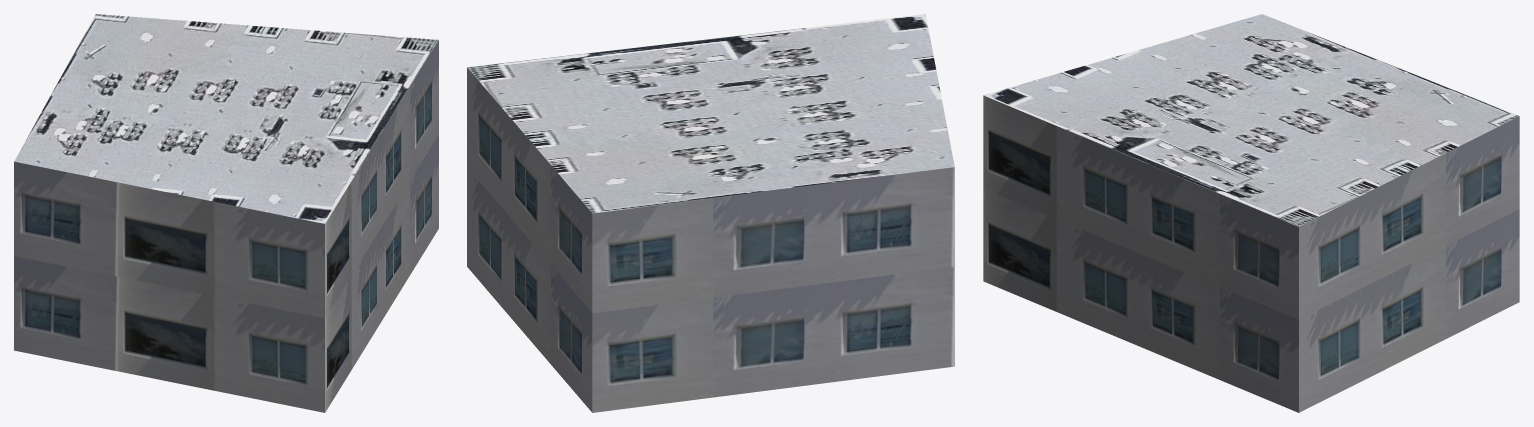
File: ResTex__1315.fbx
3 views of the same model, side by side, from view 1: azimuth 30°, elevation 25°; view 2: azimuth 150°, elevation 25°; view 3: azimuth 270°, elevation 25° (orthographic). The views are drawn at different scales.
Parts seen in each view (by area): view 1: CityEngineMaterial_10_m, CityEngineMaterial_4_m; view 2: CityEngineMaterial_10_m, CityEngineMaterial_4_m; view 3: CityEngineMaterial_10_m, CityEngineMaterial_4_m.
Part boxes in pixels (x1,y1,x2,y2): CityEngineMaterial_10_m: (14,40,438,412); CityEngineMaterial_4_m: (14,14,438,223); CityEngineMaterial_10_m: (467,67,954,412); CityEngineMaterial_4_m: (467,14,954,213); CityEngineMaterial_10_m: (983,95,1519,412); CityEngineMaterial_4_m: (983,14,1519,226).
Size of the model in its own units: 14.73 by 6 by 15.68.
2 materials, 2 textured.
